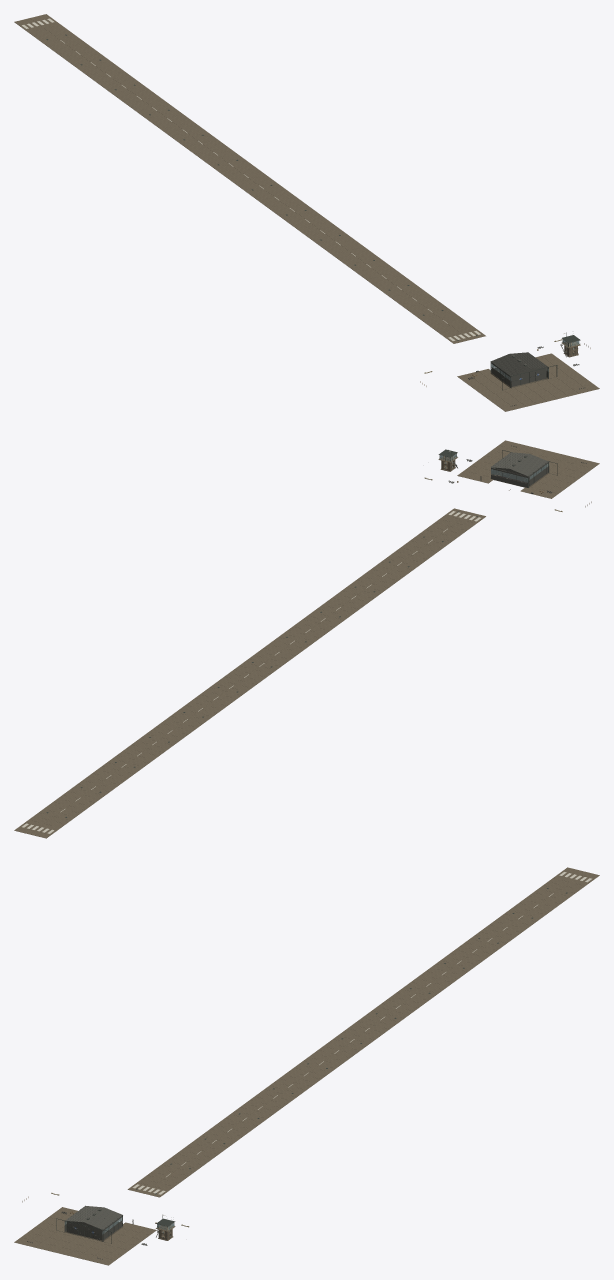
The model's file is Bloedjungle_Airfield_HQ_2_2_LOD2.glb.
3 renders of one model, top to bottom at view 1: azimuth 30°, elevation 25°; view 2: azimuth 150°, elevation 25°; view 3: azimuth 330°, elevation 25°, orthographic.
Parts seen in each view (by area): view 1: Airfield Apron 100m section, Airfield Runway_05 100m section, Airfield Runway_00 100m section, Airfield Runway_02 100m section, Airfield Runway_07 100m section, Airfield Runway_04 100m section, Airfield Runway_01 100m section, Airfield Runway_03 100m section, Airfield Runway_06 100m section, Airfield Runway_08 100m section, Hangar HQ 22; view 2: Airfield Apron 100m section, Airfield Runway_05 100m section, Airfield Runway_02 100m section, Airfield Runway_04 100m section, Airfield Runway_07 100m section, Airfield Runway_01 100m section, Airfield Runway_06 100m section, Airfield Runway_00 100m section, Airfield Runway_03 100m section, Hangar HQ 22, Airfield Runway_08 100m section; view 3: Airfield Apron 100m section, Airfield Runway_05 100m section, Airfield Runway_07 100m section, Airfield Runway_02 100m section, Airfield Runway_00 100m section, Airfield Runway_06 100m section, Airfield Runway_01 100m section, Airfield Runway_04 100m section, Airfield Runway_03 100m section, Airfield Runway_08 100m section, Hangar HQ 22.
Boxes of the visible parts, box(x1,y1,x2,y2) form: Airfield Apron 100m section: box(457, 353, 599, 411); Airfield Runway_05 100m section: box(156, 118, 241, 164); Airfield Runway_00 100m section: box(405, 300, 485, 343); Airfield Runway_02 100m section: box(307, 228, 387, 272); Airfield Runway_07 100m section: box(58, 46, 138, 89); Airfield Runway_04 100m section: box(210, 157, 290, 200); Airfield Runway_01 100m section: box(356, 264, 436, 307); Airfield Runway_03 100m section: box(258, 193, 338, 236); Airfield Runway_06 100m section: box(107, 82, 187, 125); Airfield Runway_08 100m section: box(14, 14, 89, 53); Hangar HQ 22: box(490, 352, 557, 390); Airfield Apron 100m section: box(457, 440, 599, 498); Airfield Runway_05 100m section: box(156, 687, 241, 734); Airfield Runway_02 100m section: box(307, 580, 388, 623); Airfield Runway_04 100m section: box(210, 651, 290, 695); Airfield Runway_07 100m section: box(58, 762, 138, 806); Airfield Runway_01 100m section: box(357, 544, 437, 587); Airfield Runway_06 100m section: box(107, 727, 187, 770); Airfield Runway_00 100m section: box(405, 508, 485, 551); Airfield Runway_03 100m section: box(259, 616, 339, 659); Hangar HQ 22: box(490, 450, 557, 487); Airfield Runway_08 100m section: box(14, 798, 89, 838); Airfield Apron 100m section: box(14, 1207, 156, 1265); Airfield Runway_05 100m section: box(372, 971, 457, 1018); Airfield Runway_07 100m section: box(475, 899, 555, 942); Airfield Runway_02 100m section: box(225, 1082, 306, 1125); Airfield Runway_00 100m section: box(127, 1154, 208, 1197); Airfield Runway_06 100m section: box(426, 935, 506, 978); Airfield Runway_01 100m section: box(176, 1118, 256, 1161); Airfield Runway_04 100m section: box(323, 1010, 403, 1054); Airfield Runway_03 100m section: box(274, 1046, 354, 1089); Airfield Runway_08 100m section: box(524, 867, 599, 907); Hangar HQ 22: box(56, 1205, 123, 1243).
Size of the model in its own units: 190 by 23.33 by 1058.
Materials: 12 (5 with a texture image).
